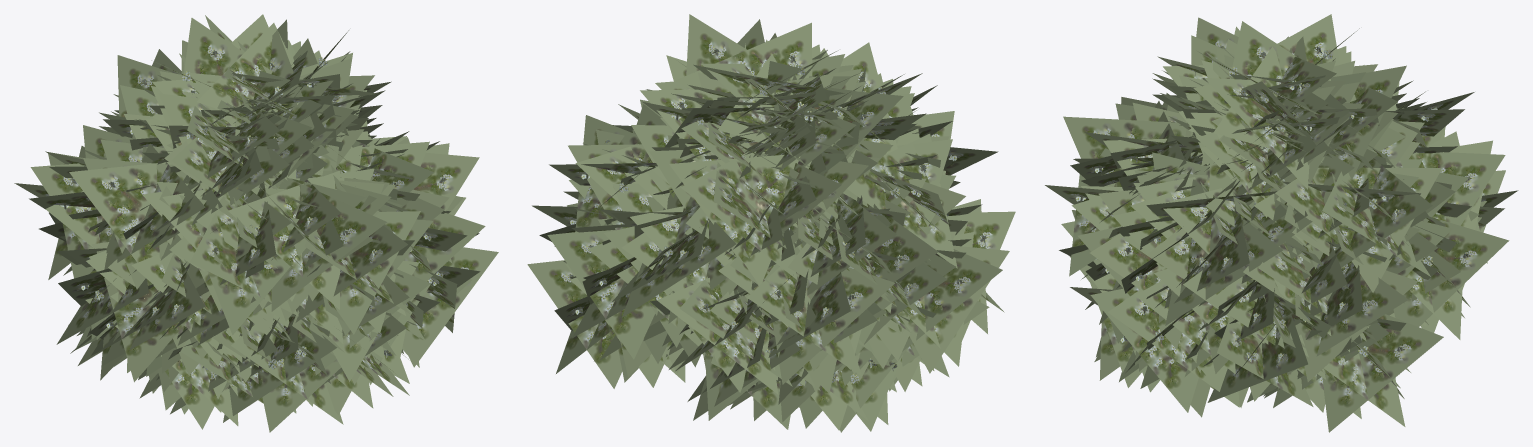
The model's file is Crataegus_Monogyna_Spring_Young.glb.
3 views of the same model, side by side, from view 1: azimuth 30°, elevation 25°; view 2: azimuth 150°, elevation 25°; view 3: azimuth 270°, elevation 25° (orthographic). The views are drawn at different scales.
Visible parts, largest first — view 1: Crataegus_Monogyna_Spring_Young__LOD3; view 2: Crataegus_Monogyna_Spring_Young__LOD3; view 3: Crataegus_Monogyna_Spring_Young__LOD3.
Part boxes in pixels (x1,y1,x2,y2): Crataegus_Monogyna_Spring_Young__LOD3: [14, 14, 498, 432]; Crataegus_Monogyna_Spring_Young__LOD3: [527, 14, 1015, 432]; Crataegus_Monogyna_Spring_Young__LOD3: [1045, 14, 1518, 432].
Bounding box in the file's own units: 2.32 × 1.7 × 2.26.
Materials: 3 (3 with a texture image).
